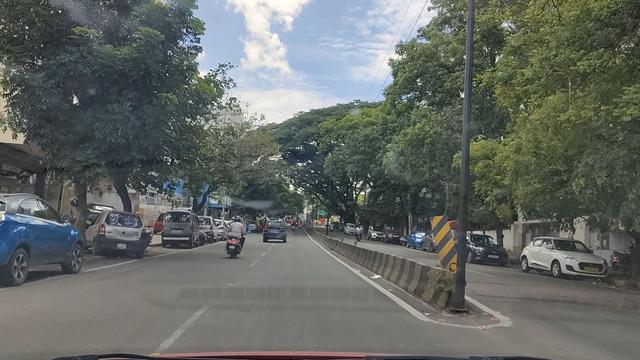LMV: (3, 196, 94, 283), (88, 209, 150, 266), (225, 214, 250, 256)
